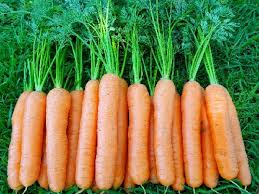carrot: (203, 79, 239, 179), (119, 79, 153, 183), (177, 79, 206, 183), (149, 76, 175, 184), (96, 71, 120, 187), (46, 86, 72, 189), (18, 84, 41, 189), (78, 76, 96, 194), (10, 93, 25, 194)
